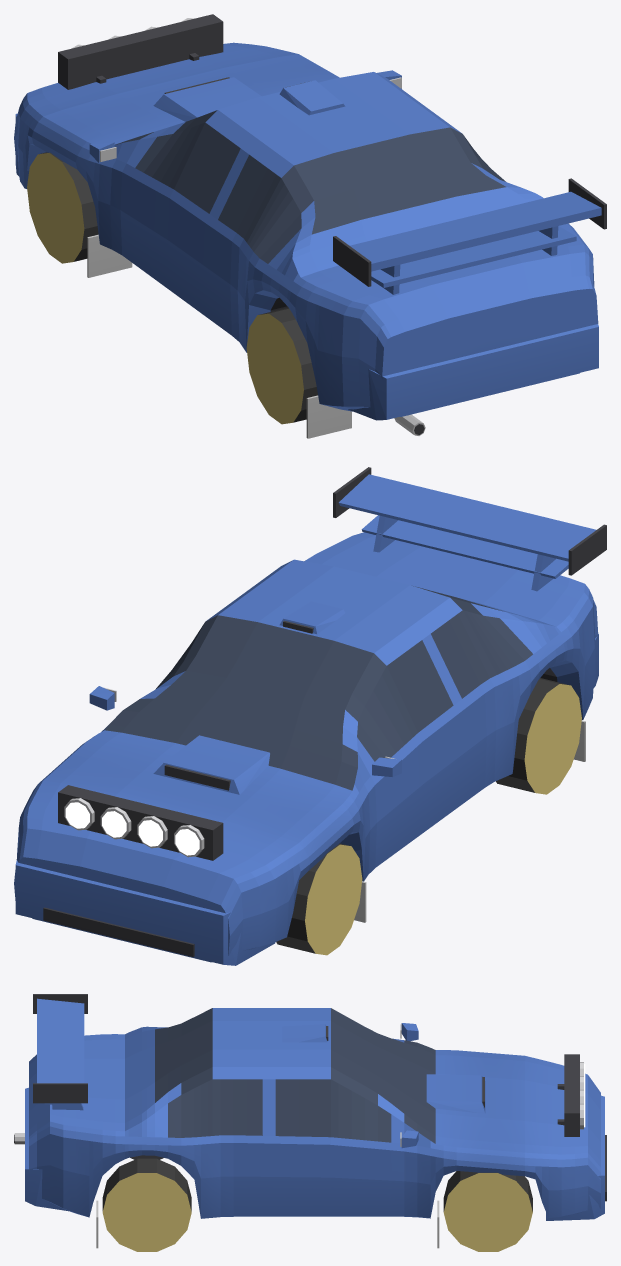
Rendered from pleiad.glb.
3 views of the same model, one above another, from view 1: azimuth 30°, elevation 25°; view 2: azimuth 150°, elevation 25°; view 3: azimuth 270°, elevation 25° (orthographic). The views are drawn at different scales.
Visible parts, largest first — view 1: Body, Spoiler, Bumper_R, LightPod, Wheel_RL, Wheel_FL, MudFlaps; view 2: Body, Spoiler, Bumper_F, LightPod, Wheel_RL, Wheel_FL, MudFlaps; view 3: Body, Wheel_RR, Wheel_FR, Spoiler, LightPod, Bumper_F, Bumper_R.
Boxes of the visible parts, box(x1,y1,x2,y2) form: Body: box(14, 42, 598, 416); Spoiler: box(333, 178, 606, 294); Bumper_R: box(348, 324, 598, 420); LightPod: box(58, 14, 223, 89); Wheel_RL: box(246, 307, 317, 424); Wheel_FL: box(27, 152, 98, 263); MudFlaps: box(87, 234, 351, 438); Body: box(14, 532, 598, 962); Spoiler: box(333, 467, 606, 591); Bumper_F: box(15, 860, 275, 965); LightPod: box(58, 785, 223, 860); Wheel_RL: box(496, 678, 581, 794); Wheel_FL: box(276, 843, 362, 955); MudFlaps: box(354, 720, 585, 922); Body: box(29, 1008, 600, 1218); Wheel_RR: box(102, 1158, 191, 1251); Wheel_FR: box(443, 1171, 532, 1251); Spoiler: box(33, 994, 87, 1110); LightPod: box(557, 1054, 585, 1136); Bumper_F: box(546, 1095, 606, 1220); Bumper_R: box(25, 1087, 70, 1211).
Bounding box in the file's own units: 2.07 × 1.42 × 4.52.
